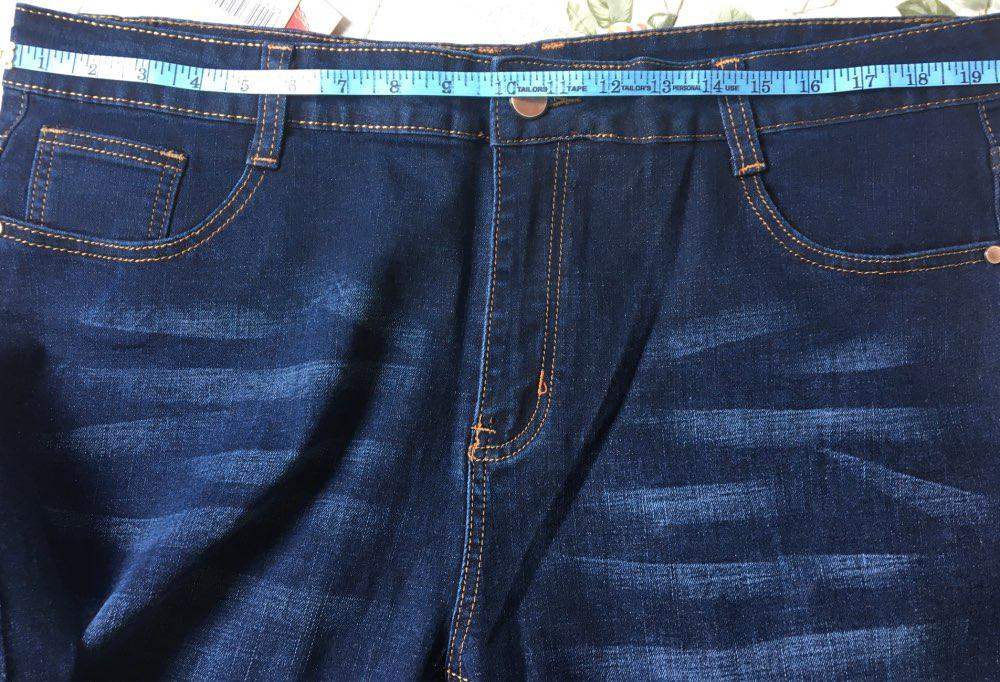jeans: (14, 1, 1000, 669)
